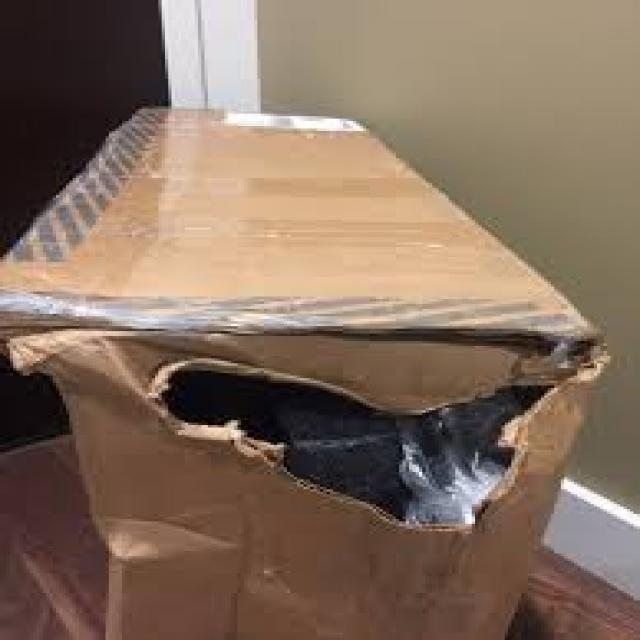hole: (150, 340, 601, 537)
